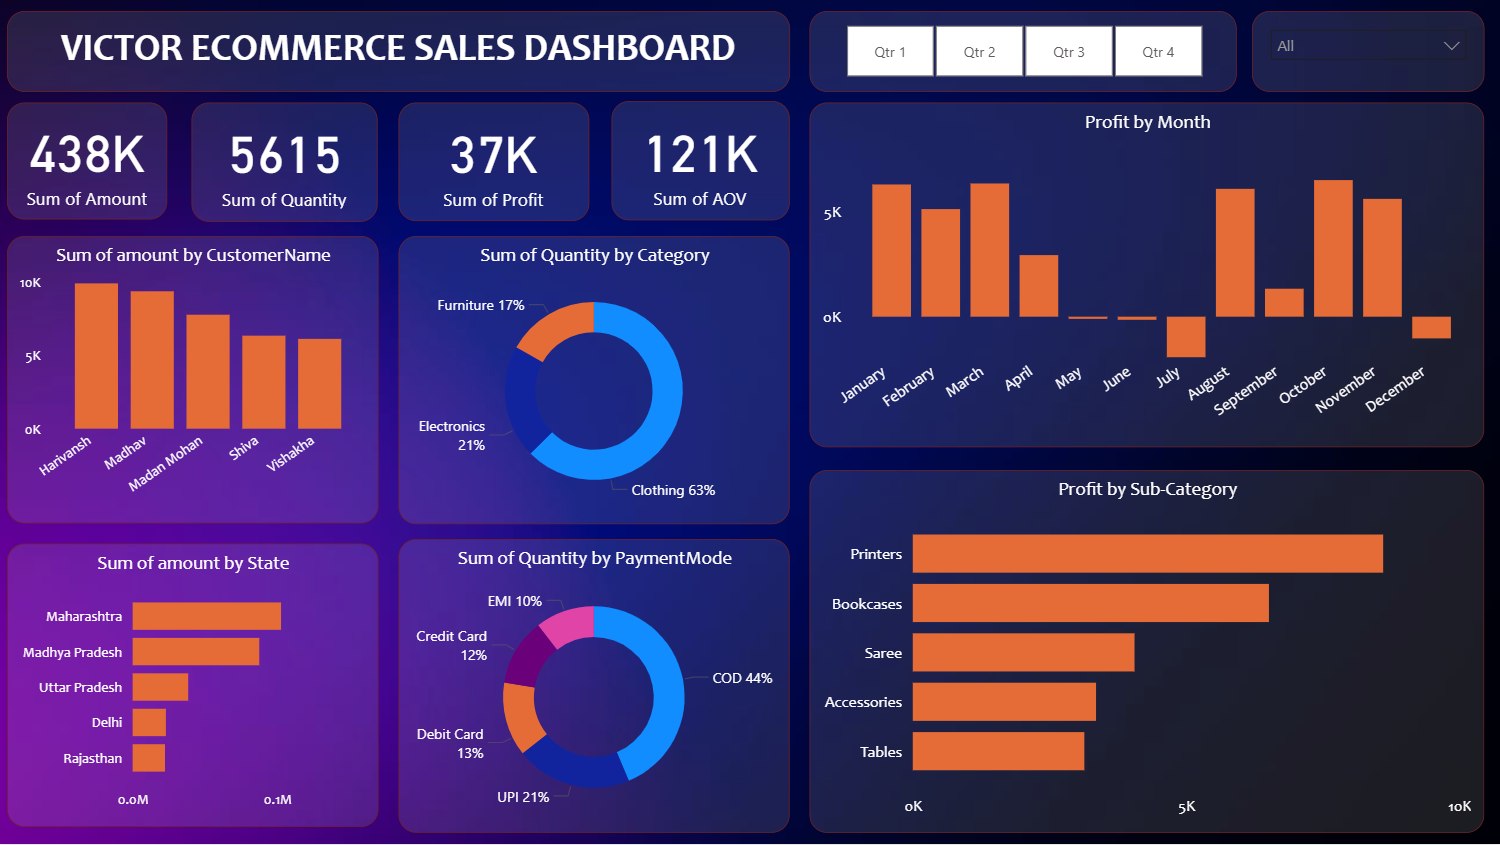

Layout of this report page (visuals, bound fields, positions):
{"tool":"powerbi","page":{"name":"Page 1","canvas":[1280,720],"ordinal":0},"visuals":[{"type":"textbox","box":[10.2,12.7,664.6,68.8],"z":0},{"type":"columnChart","title":"Profit  by Month","fields":{"Category":["Orders.Order Date.Variation.Date Hierarchy.Month"],"Y":["Sum(Details.Profit)"]},"box":[691.4,90.4,572.9,292.8],"z":1000},{"type":"barChart","title":"Profit by Sub-Category","fields":{"Y":["Sum(Details.Profit)"],"Category":["Details.Sub-Category"]},"box":[691.4,402.3,572.9,308.1],"z":2000},{"type":"donutChart","fields":{"Category":["Details.Category"],"Y":["Sum(Details.Quantity)"]},"box":[342.5,203.7,332.3,244.5],"z":3000},{"type":"donutChart","fields":{"Category":["Details.PaymentMode"],"Y":["Sum(Details.Quantity)"]},"box":[342.5,460.9,332.3,249.6],"z":4000},{"type":"card","fields":{"Values":["Sum(Details.Amount)"]},"box":[10.2,90.4,136.2,99.3],"z":5000},{"type":"card","fields":{"Values":["Sum(Details.Profit)"]},"box":[342.5,90.4,161.7,100.6],"z":6000},{"type":"card","fields":{"Values":["Sum(Details.Quantity)"]},"box":[167.3,89.8,158.2,101],"z":7000},{"type":"card","fields":{"Values":["Sum(Details.AOV)"]},"box":[523.5,88.8,151,101],"z":8000},{"type":"barChart","title":"Sum of amount by State","fields":{"Y":["Sum(Details.Amount)"],"Category":["Orders.State"]},"box":[10.2,465.3,315.3,240.8],"z":9000},{"type":"columnChart","title":"Sum of amount by CustomerName","fields":{"Category":["Orders.CustomerName"],"Y":["Sum(Details.Amount)"]},"box":[10.2,204.1,315.3,243.9],"z":10000},{"type":"slicer","fields":{"Values":["Orders.Order Date.Variation.Date Hierarchy.Quarter"]},"box":[691.4,12.7,362.9,68.8],"z":10001},{"type":"slicer","fields":{"Values":["Orders.State"]},"box":[1067,12.7,197.3,68.8],"z":10002}]}

Visuals, with their boxes in screenshot pixels (x1, y1, x2, y2), scaled from the page's 1280x720 canvas onto the 1500x845 screenshot:
textbox: <bbox>12, 15, 791, 96</bbox>
"Profit  by Month" columnChart: <bbox>810, 106, 1482, 450</bbox>
"Profit by Sub-Category" barChart: <bbox>810, 472, 1482, 834</bbox>
donutChart - Details.Category x Sum(Details.Quantity): <bbox>401, 239, 791, 526</bbox>
donutChart - Details.PaymentMode x Sum(Details.Quantity): <bbox>401, 541, 791, 834</bbox>
card - Sum(Details.Amount): <bbox>12, 106, 172, 223</bbox>
card - Sum(Details.Profit): <bbox>401, 106, 591, 224</bbox>
card - Sum(Details.Quantity): <bbox>196, 105, 381, 224</bbox>
card - Sum(Details.AOV): <bbox>613, 104, 790, 223</bbox>
"Sum of amount by State" barChart: <bbox>12, 546, 381, 829</bbox>
"Sum of amount by CustomerName" columnChart: <bbox>12, 240, 381, 526</bbox>
slicer - Orders.Order Date.Variation.Date Hierarchy.Quarter: <bbox>810, 15, 1236, 96</bbox>
slicer - Orders.State: <bbox>1250, 15, 1482, 96</bbox>
